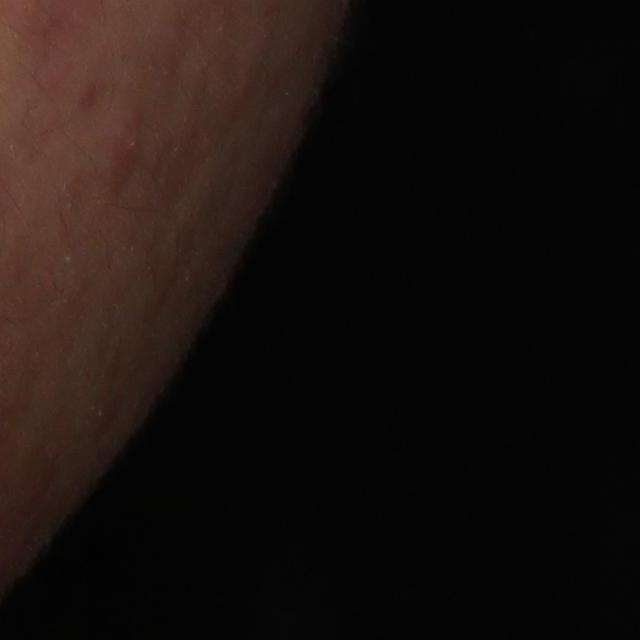papule: (110, 119, 145, 173)
